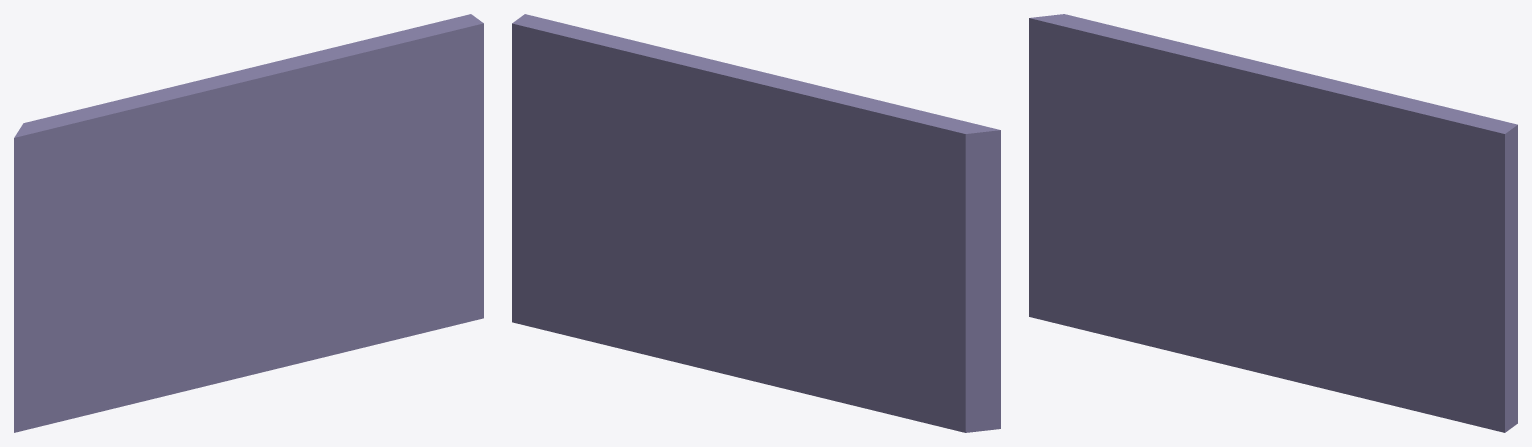
File: Walls and Floors with Doors.fbx_CWall_Inner_Flat.fbx
3 views of the same model, side by side, from view 1: azimuth 30°, elevation 25°; view 2: azimuth 150°, elevation 25°; view 3: azimuth 330°, elevation 25° (orthographic).
Parts seen in each view (by area): view 1: CWall Inner Flat; view 2: CWall Inner Flat; view 3: CWall Inner Flat.
Part boxes in pixels (x1=…): CWall Inner Flat: x1=14, y1=14, x2=483, y2=432; CWall Inner Flat: x1=512, y1=14, x2=1000, y2=432; CWall Inner Flat: x1=1029, y1=14, x2=1517, y2=432.
Size of the model in its own units: 1500 by 900 by 70.71.
